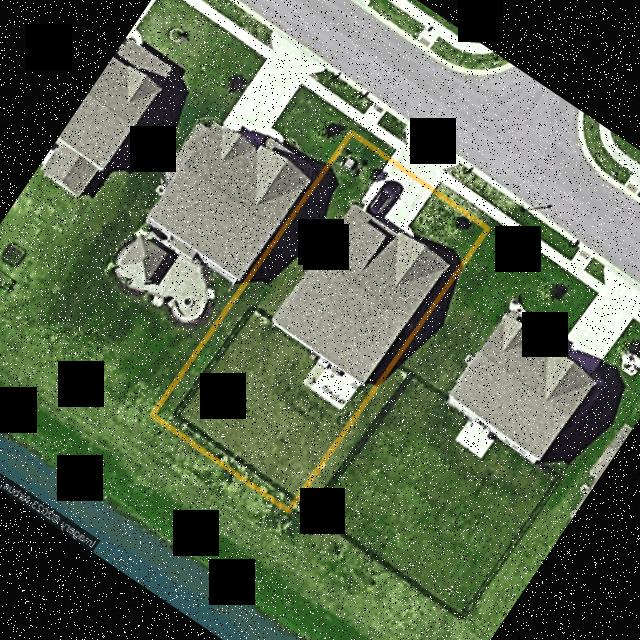Driveway: (384, 162, 431, 234), (362, 181, 380, 202)
Extra Driveway: (393, 121, 459, 186)
Extra Lawn: (272, 205, 448, 410), (450, 163, 509, 209), (436, 182, 491, 222), (351, 121, 394, 155), (378, 111, 406, 140)
Extra Sidewalk: (441, 169, 498, 214), (356, 101, 401, 150)
Other: (342, 157, 355, 168)
